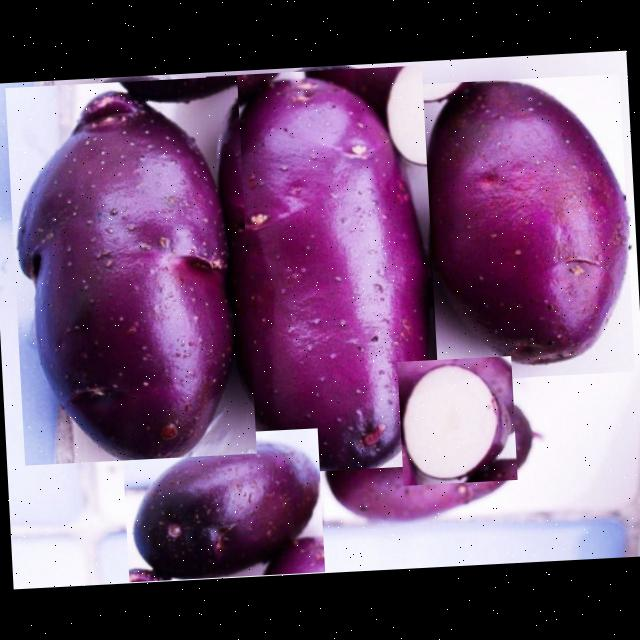Defected potato: (5, 76, 256, 466), (206, 65, 443, 476), (414, 74, 635, 382), (318, 386, 543, 534), (122, 428, 325, 582), (398, 356, 518, 486)
